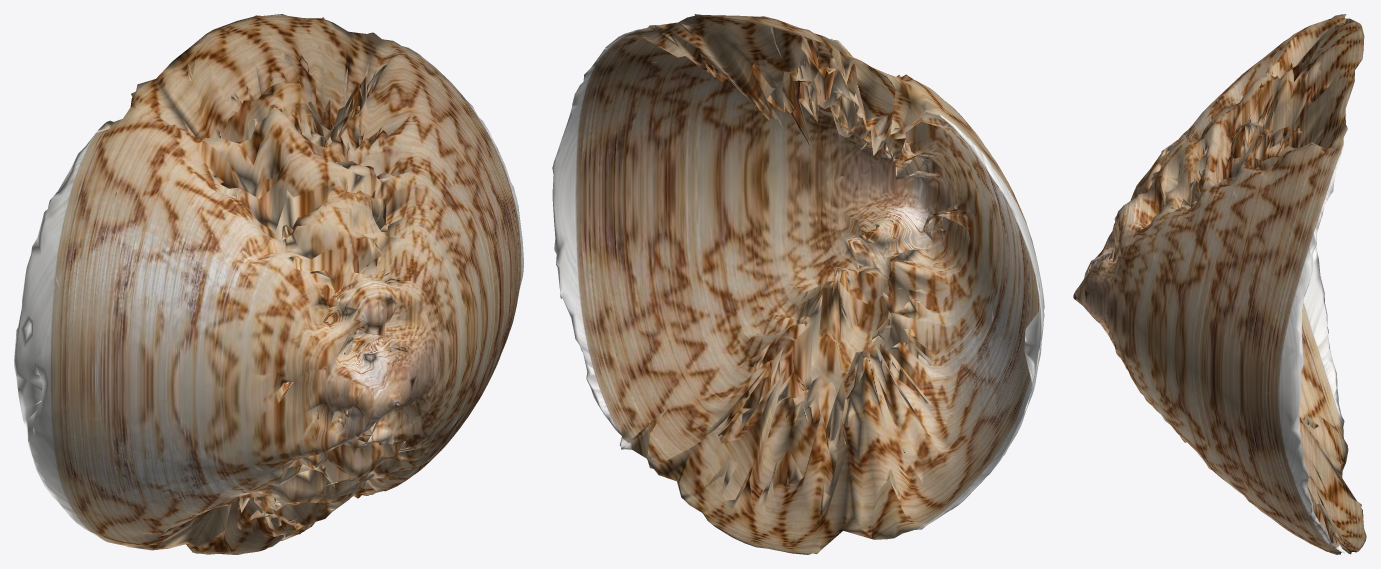
File: fish_hardclam.glb
3 renders of one model, left to right at view 1: azimuth 30°, elevation 25°; view 2: azimuth 150°, elevation 25°; view 3: azimuth 270°, elevation 25°, orthographic. The views are drawn at different scales.
Parts seen in each view (by area): view 1: orient; view 2: orient; view 3: orient.
Part boxes in pixels (x1=…): orient: x1=14, y1=14, x2=523, y2=554; orient: x1=552, y1=14, x2=1044, y2=554; orient: x1=1073, y1=14, x2=1366, y2=554.
Size of the model in its own units: 2.14 by 2.16 by 1.16.
Materials: 1 (1 with a texture image).
